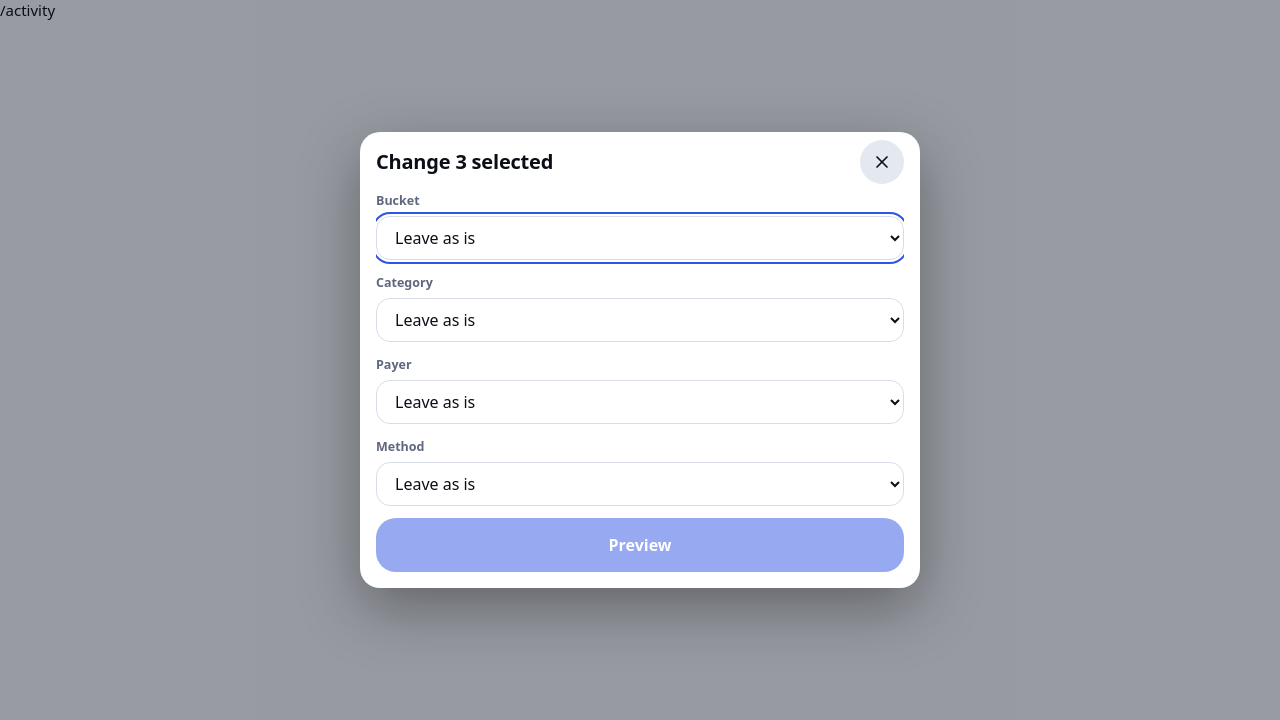
BulkSheet › a 409 on apply re-previews and shows the message
Select "Bills" in the dropdown labelled "Bucket" at {"x": 640, "y": 238}, box [376,216,904,260]
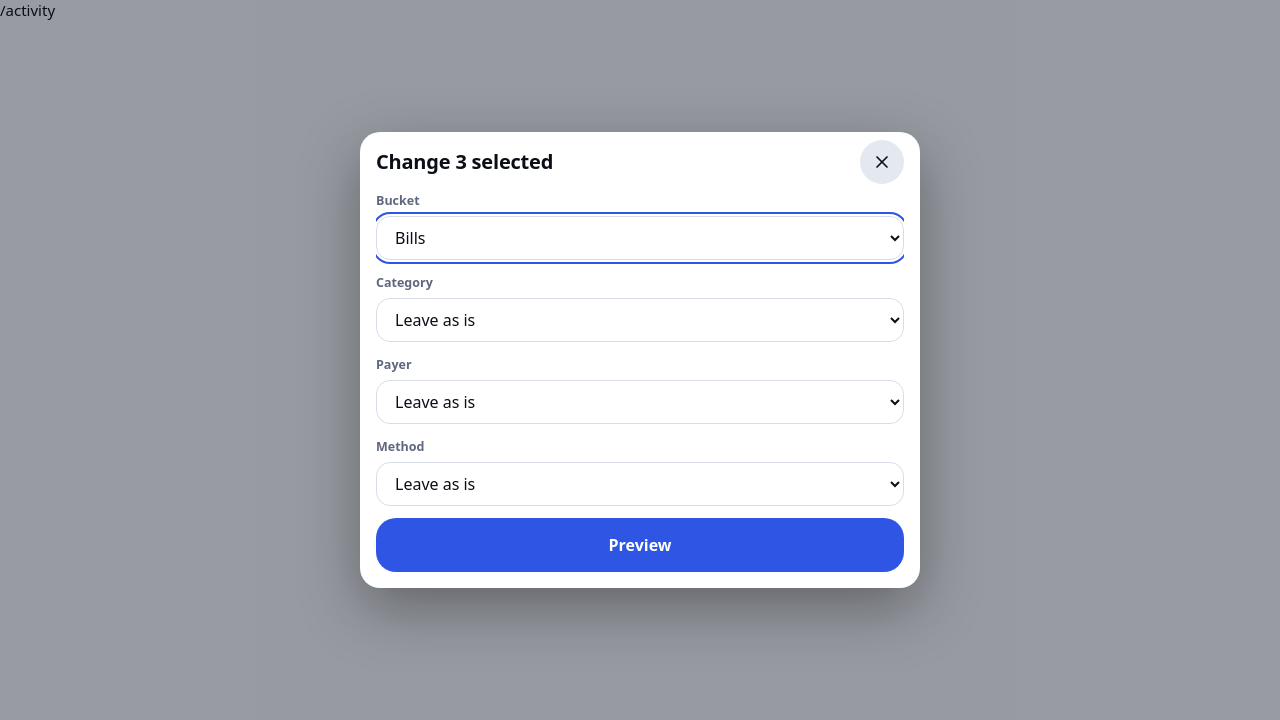
Click the button "Preview" at {"x": 640, "y": 545}, box [376,518,904,572]
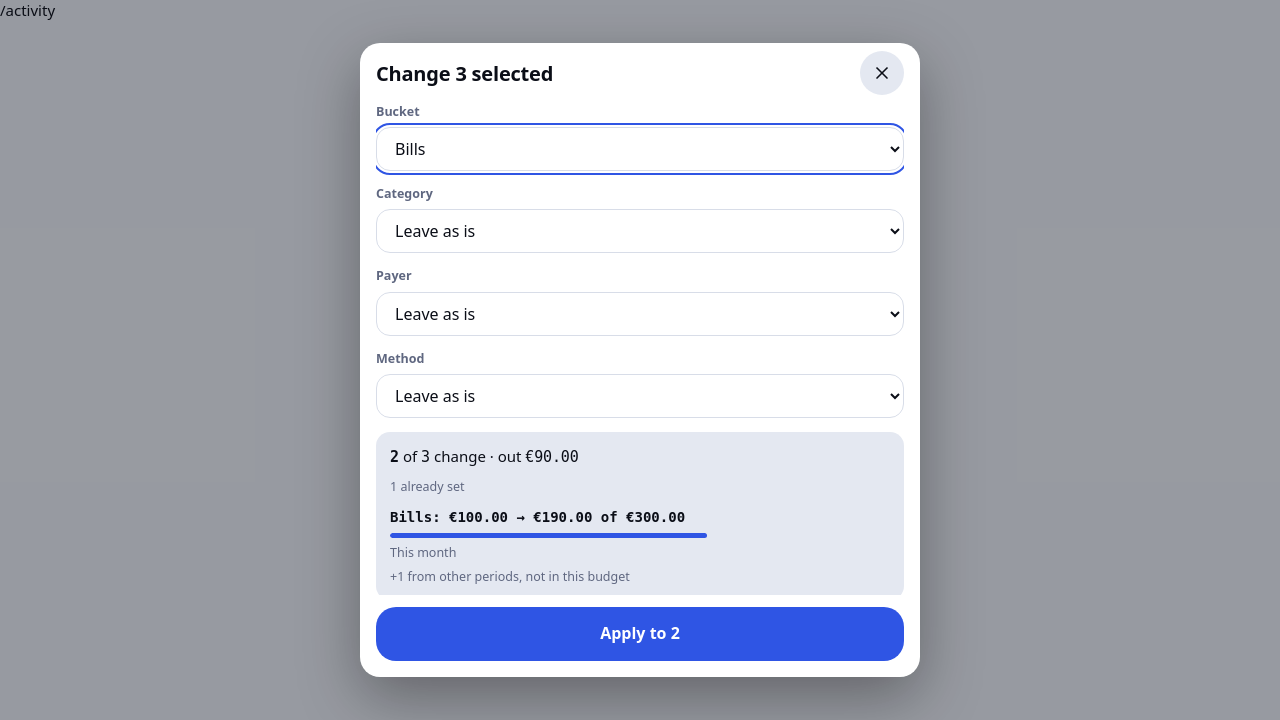
Click the button "Apply to 2" at {"x": 640, "y": 634}, box [376,607,904,661]
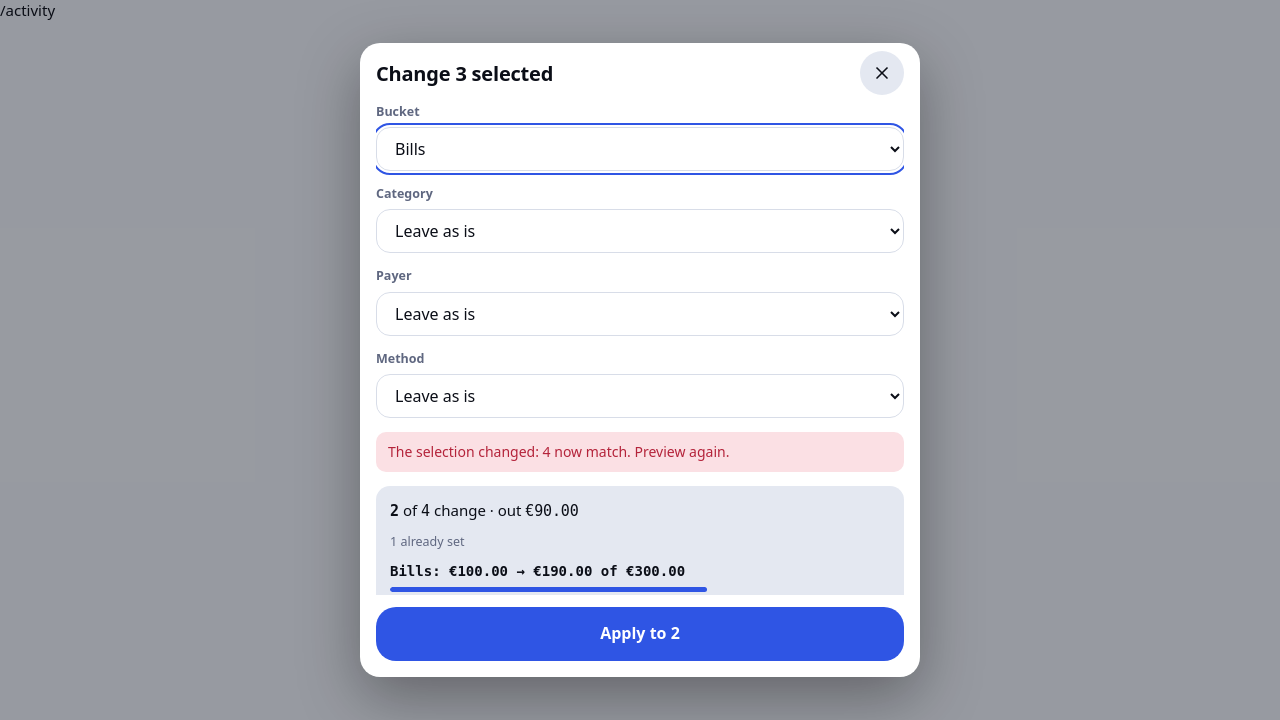
Now the text "The selection changed: 4 now match. Preview again." is shown, box [376,432,904,472]
